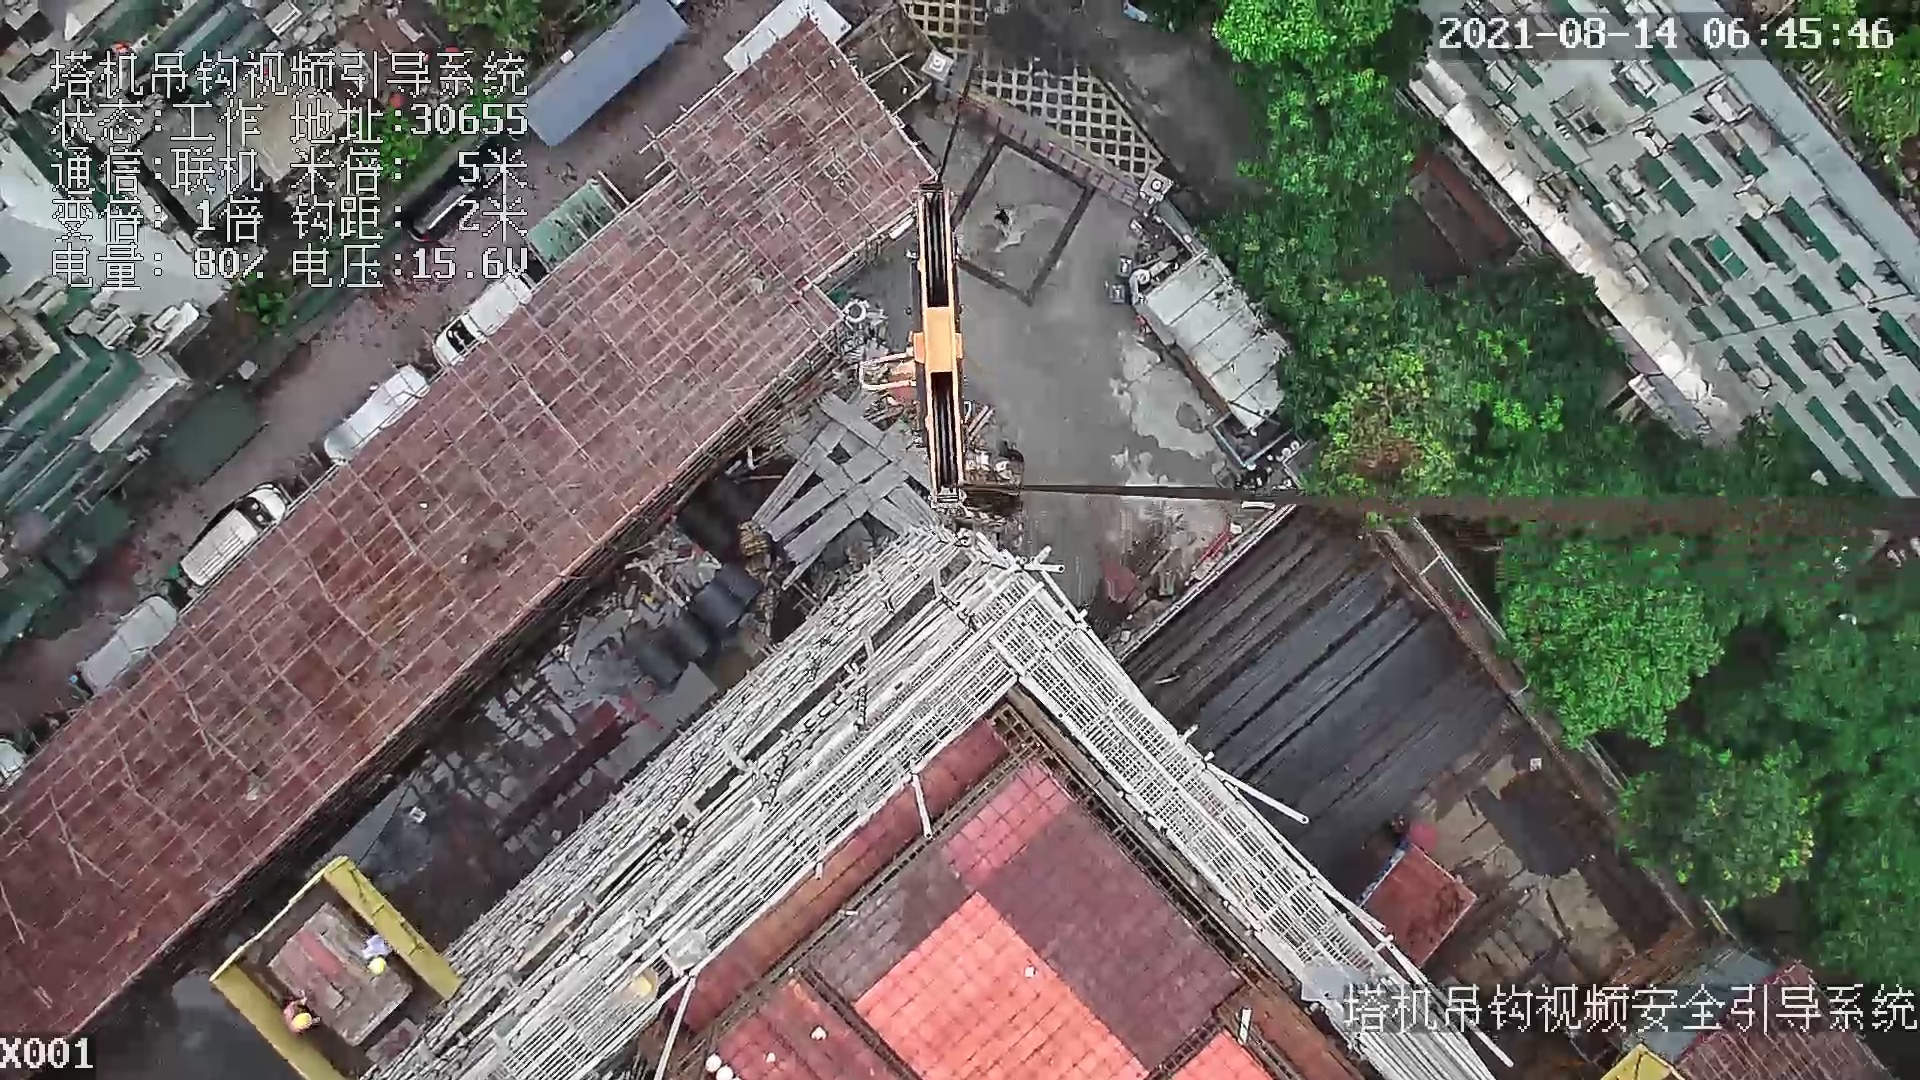helmet: (292, 1013, 315, 1035), (369, 960, 385, 975)
person: (277, 987, 327, 1041), (356, 924, 387, 969)
